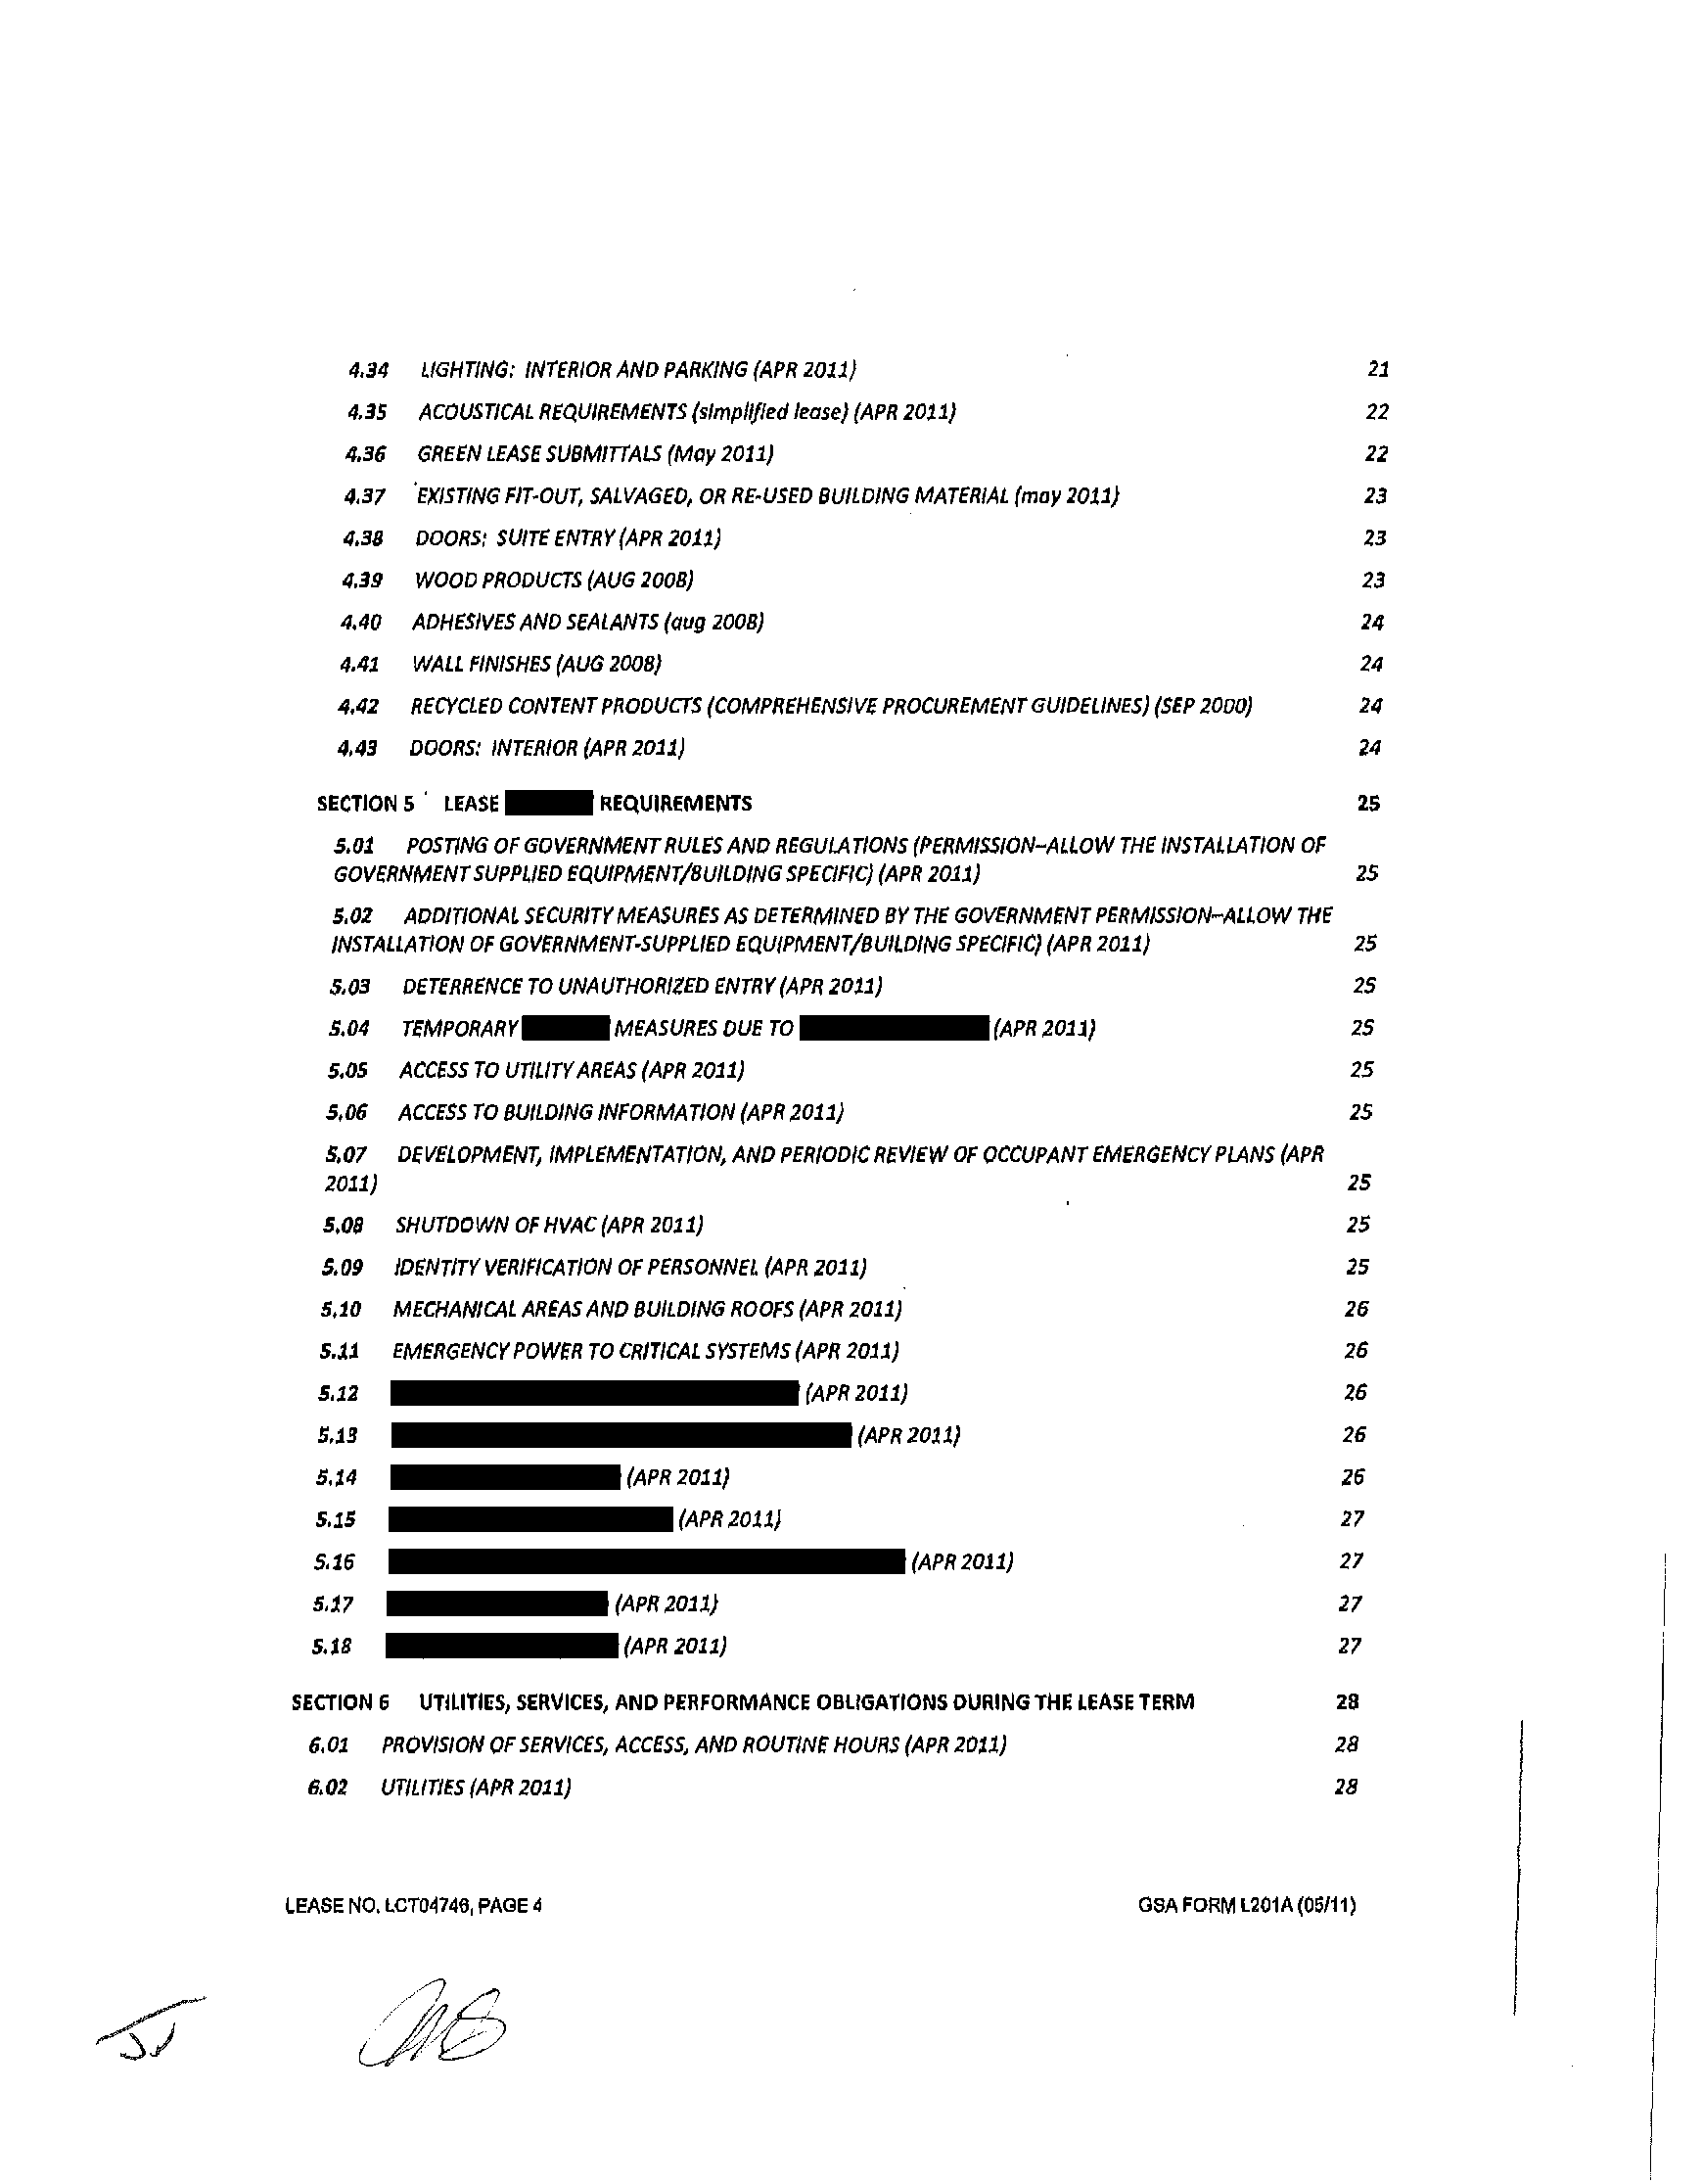handwritten: (323, 1939, 543, 2092), (89, 1975, 209, 2074)
